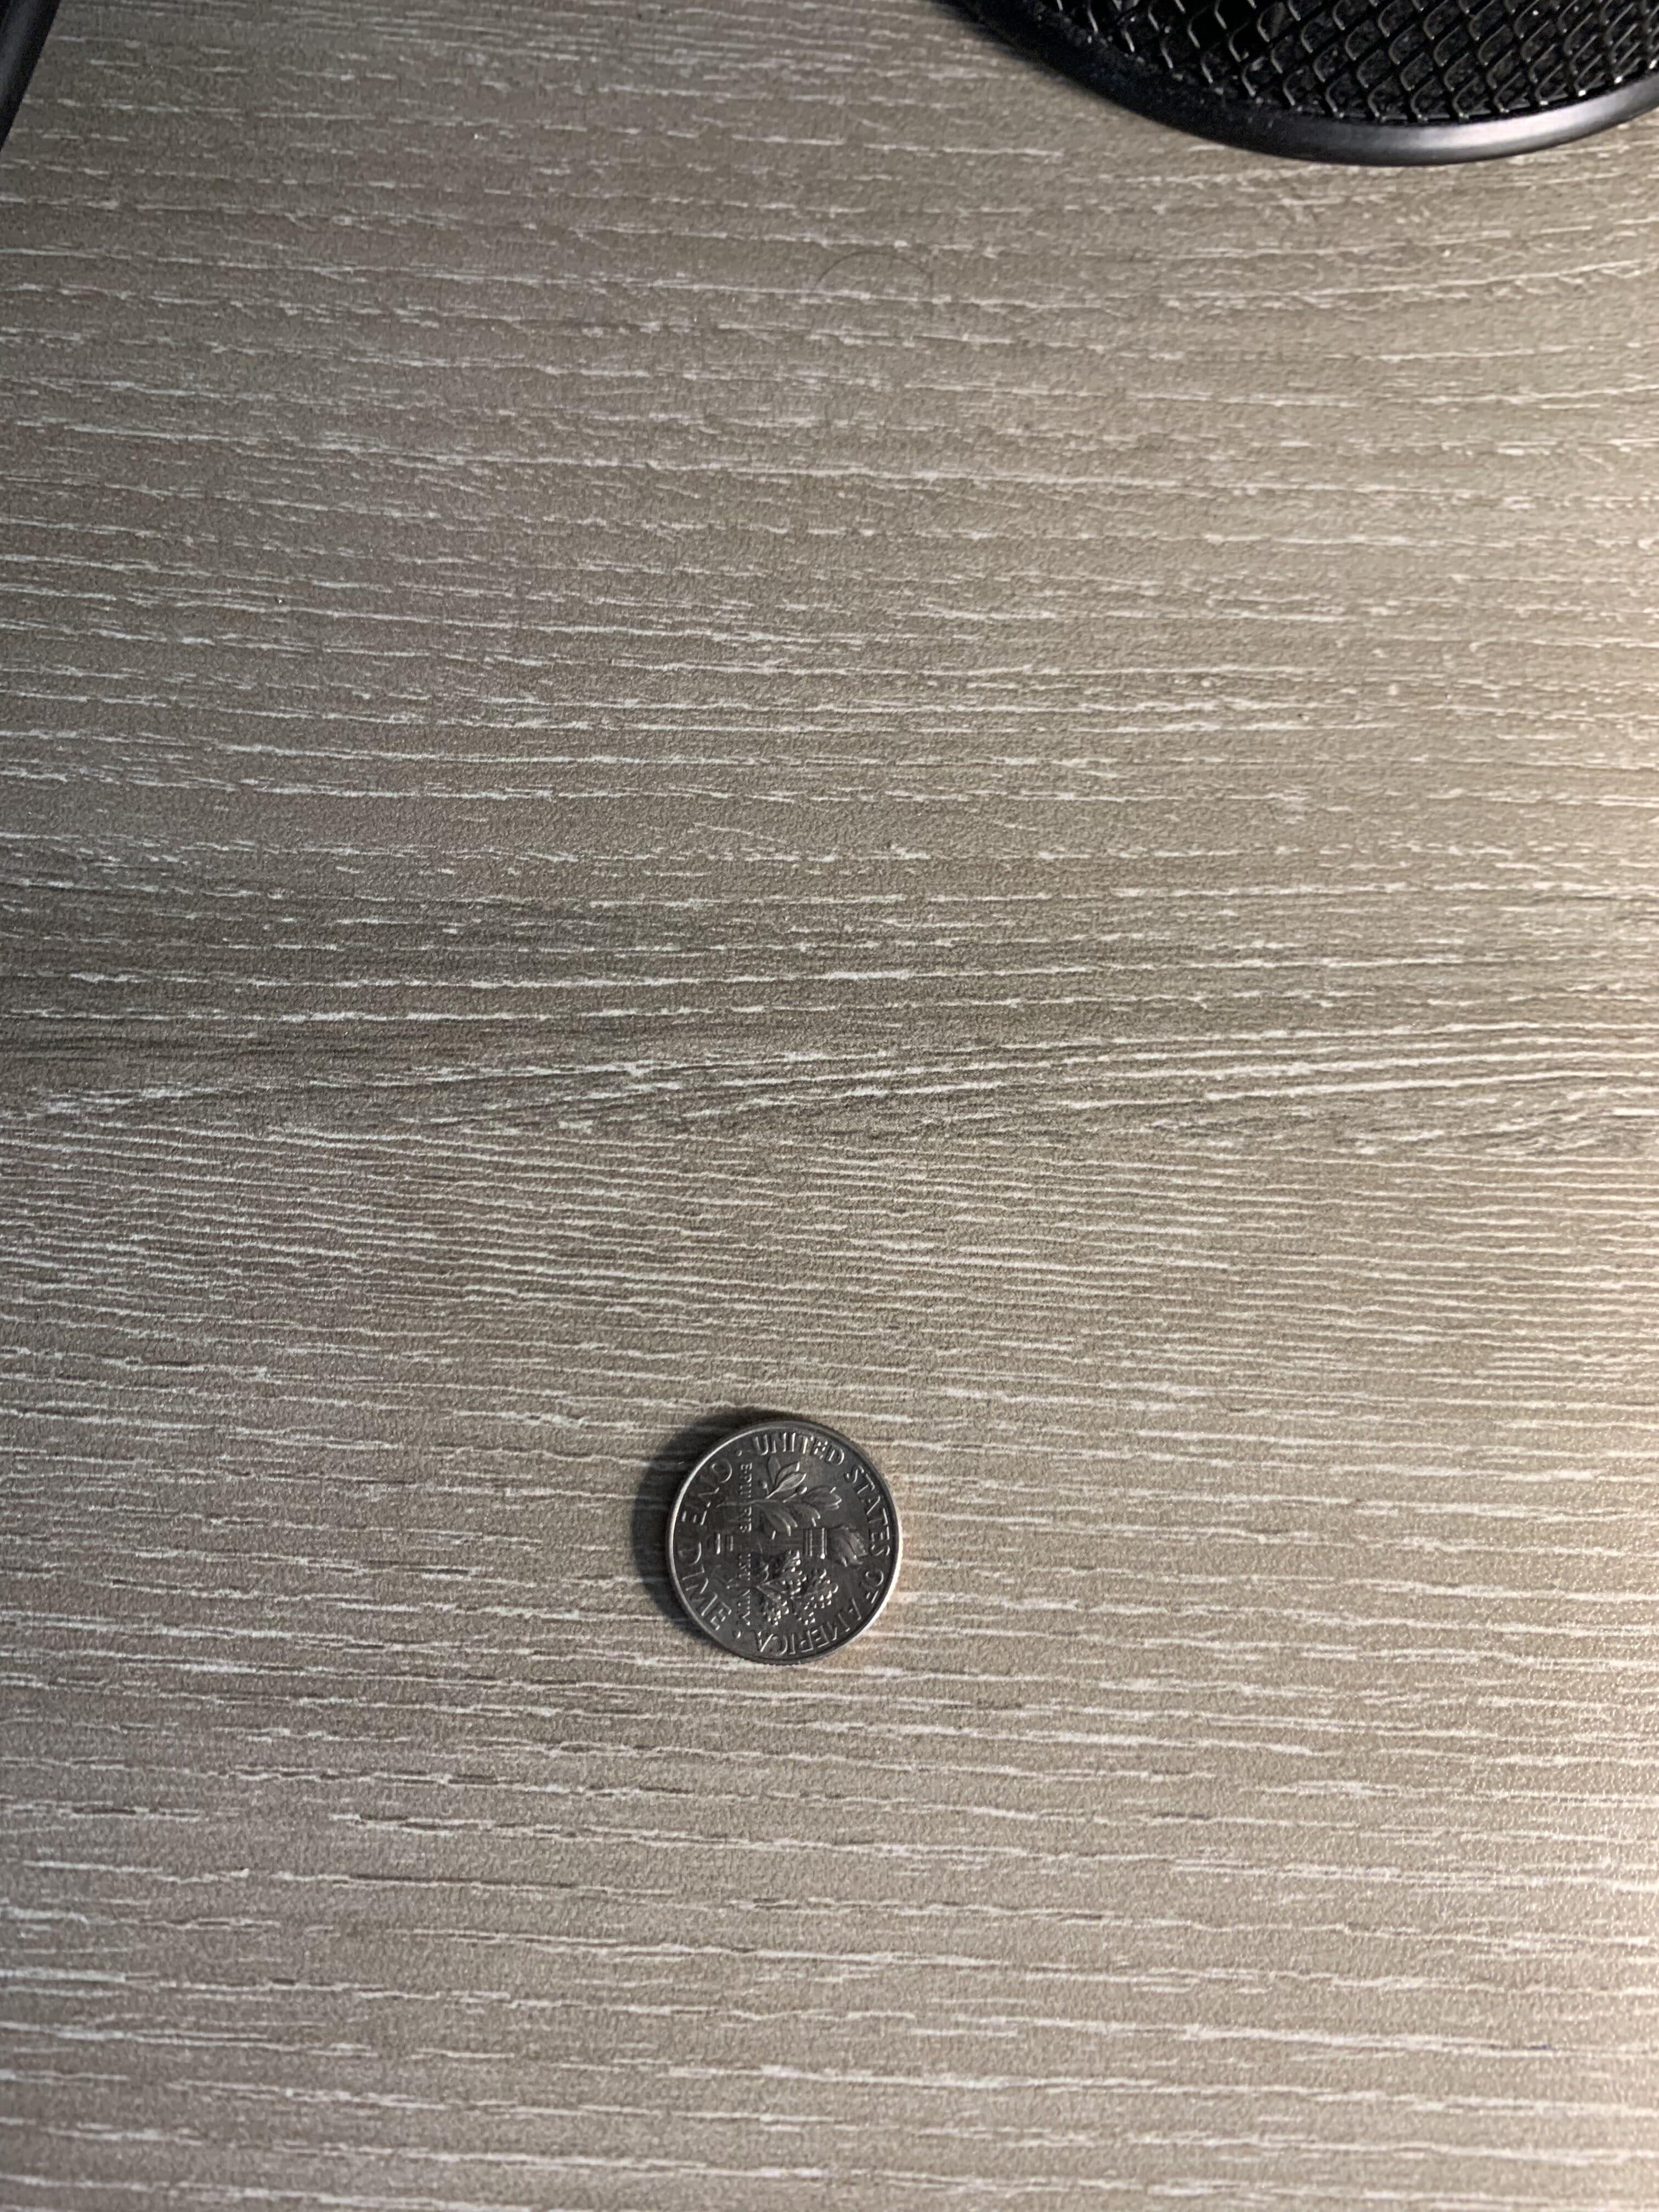Dime: (608, 1357, 943, 1695)
